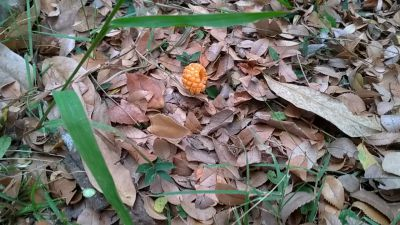eggs: (179, 60, 210, 95)
